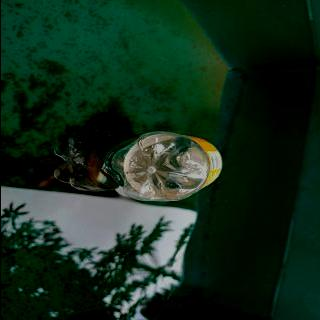bottle: (110, 130, 222, 202)
